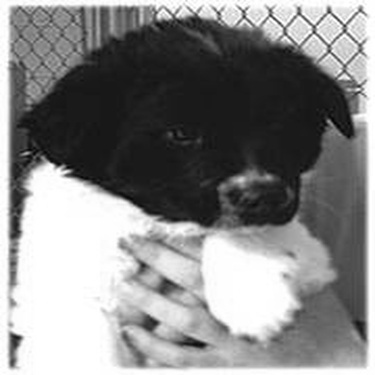dog: (6, 9, 358, 366)
